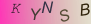B: (80, 3, 90, 17)
K: (10, 2, 22, 15)
N: (40, 1, 54, 14)
S: (59, 9, 70, 22)
Y: (29, 7, 42, 21)
